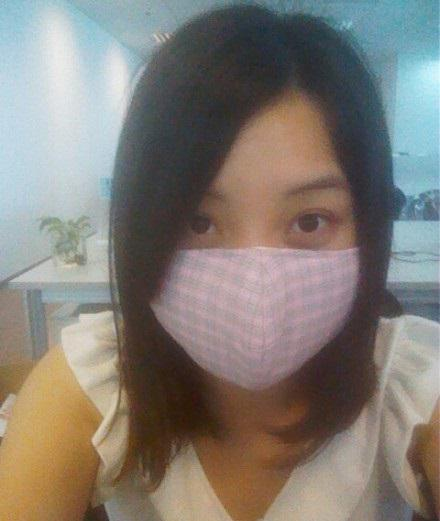OK: (156, 166, 370, 380)
